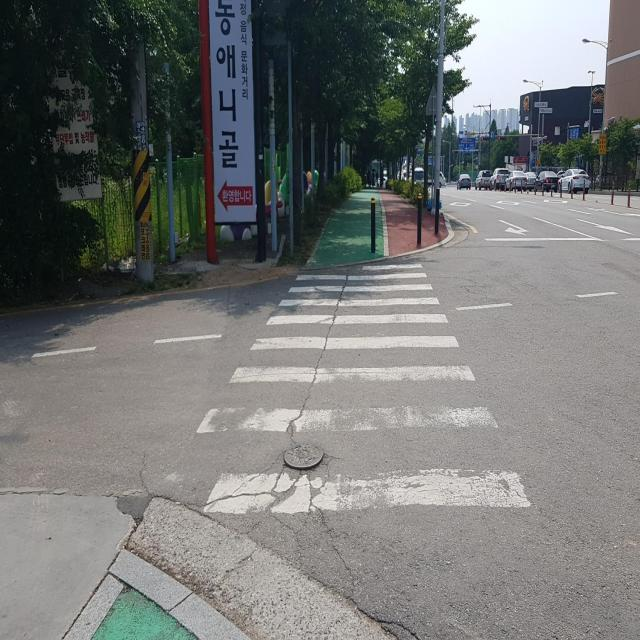횡단보도: (194, 261, 534, 522)
